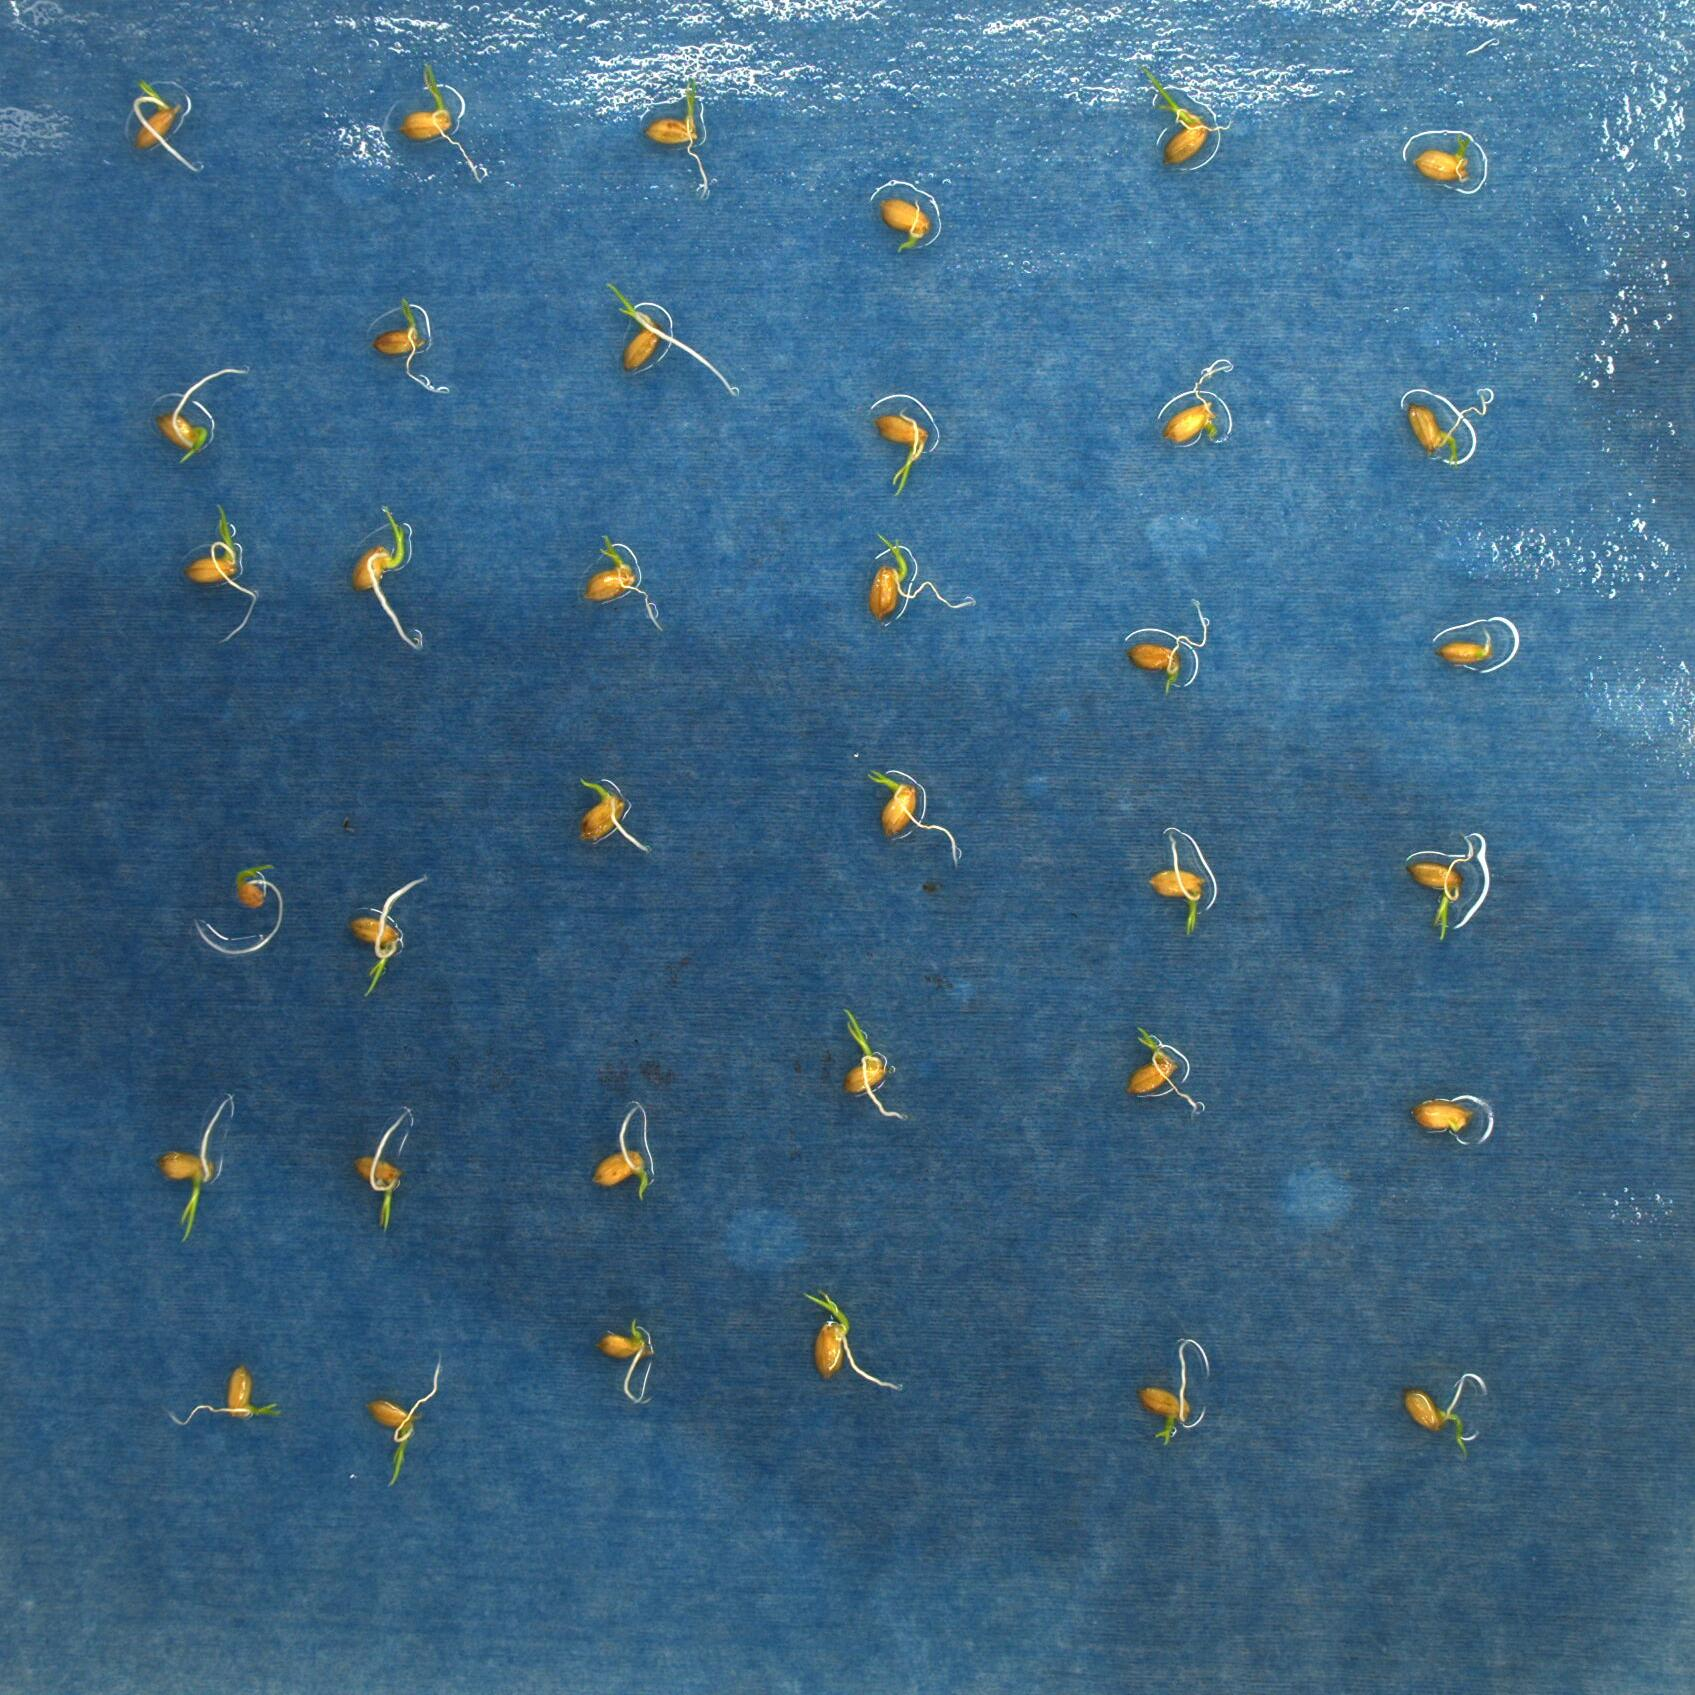not sprout: (1409, 1096, 1475, 1147), (1436, 627, 1498, 671)
sprout: (602, 278, 744, 400), (349, 500, 432, 658), (396, 57, 490, 186), (157, 1091, 237, 1242), (799, 1285, 908, 1397), (180, 503, 261, 646), (865, 529, 978, 629), (365, 1357, 445, 1489), (865, 765, 964, 868), (348, 872, 427, 998), (643, 68, 716, 203), (158, 362, 255, 461), (192, 860, 286, 959), (349, 1097, 416, 1236), (1146, 65, 1234, 169), (837, 1004, 913, 1124), (371, 292, 456, 396), (582, 534, 667, 632), (1127, 601, 1211, 694), (127, 76, 203, 179), (1399, 1371, 1479, 1465), (1406, 834, 1476, 941), (1127, 1021, 1205, 1118), (168, 1364, 287, 1426), (1403, 385, 1498, 458), (585, 1101, 650, 1201), (1152, 830, 1211, 939), (574, 775, 653, 855), (1163, 360, 1236, 445), (1138, 1333, 1191, 1450), (593, 1316, 653, 1406), (869, 411, 927, 497), (874, 196, 931, 256), (1412, 137, 1471, 182)
